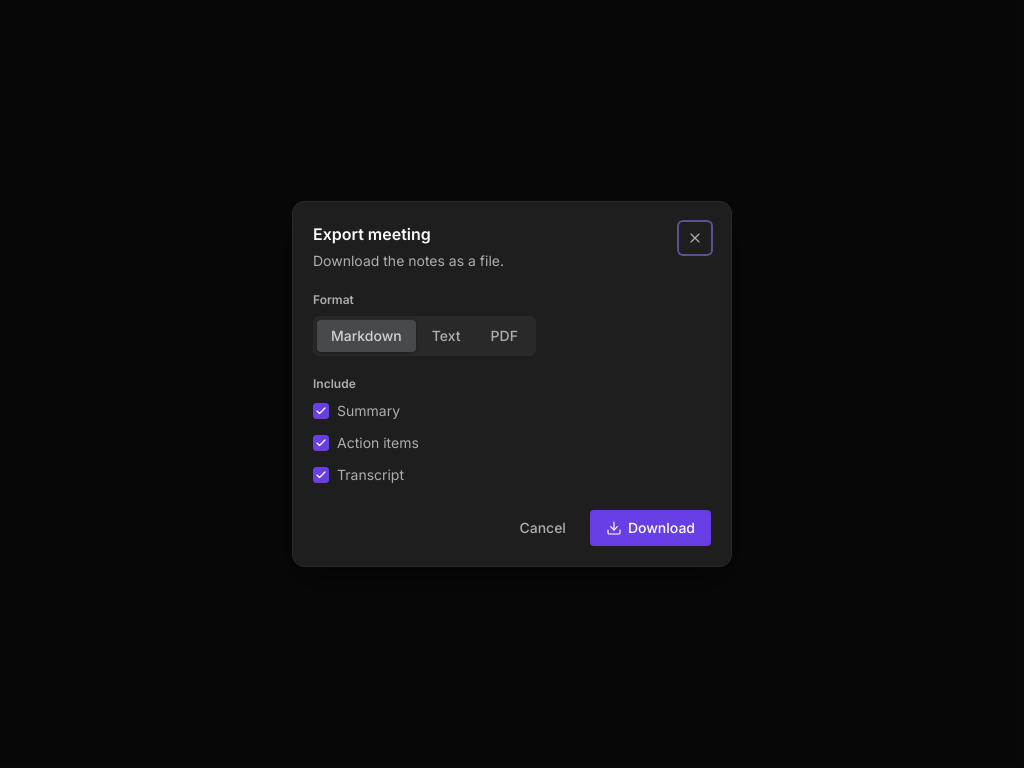
Test: ExportModal › disables Download and explains why when no section is picked
The width and height of the screenshot is (1024, 768).
Click the checkbox named "Summary" next to "Summary".
click(321, 411)  # box [313,403,329,419]
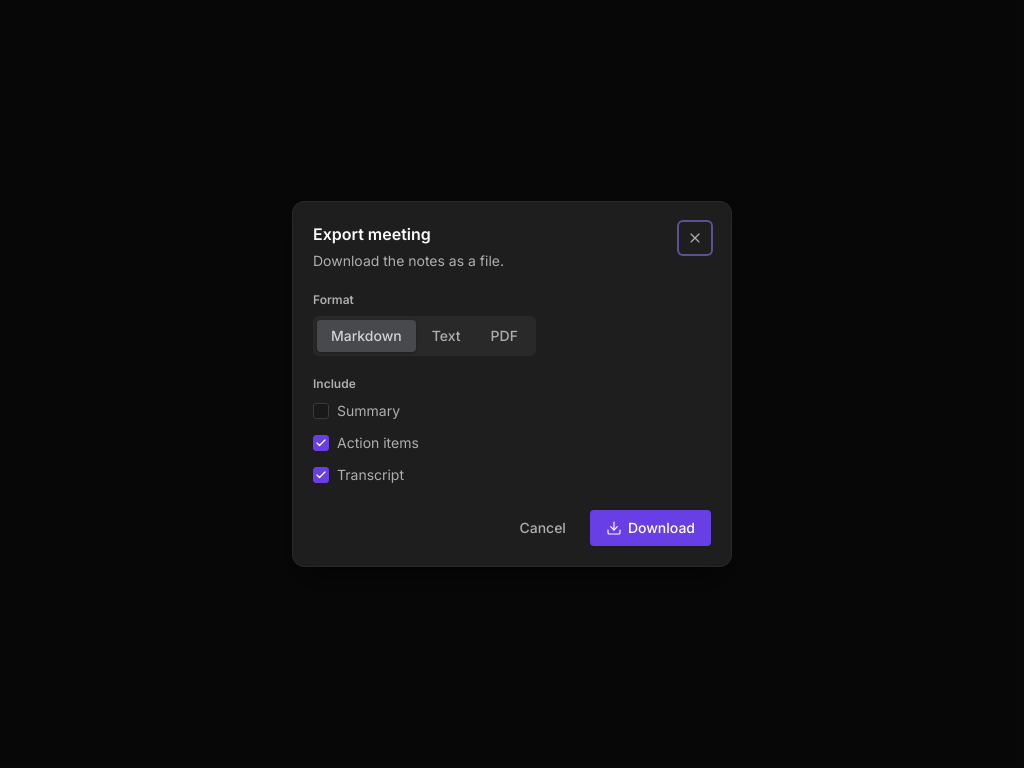
Click the checkbox named "Action items" next to "Action items".
click(321, 443)  # box [313,435,329,451]
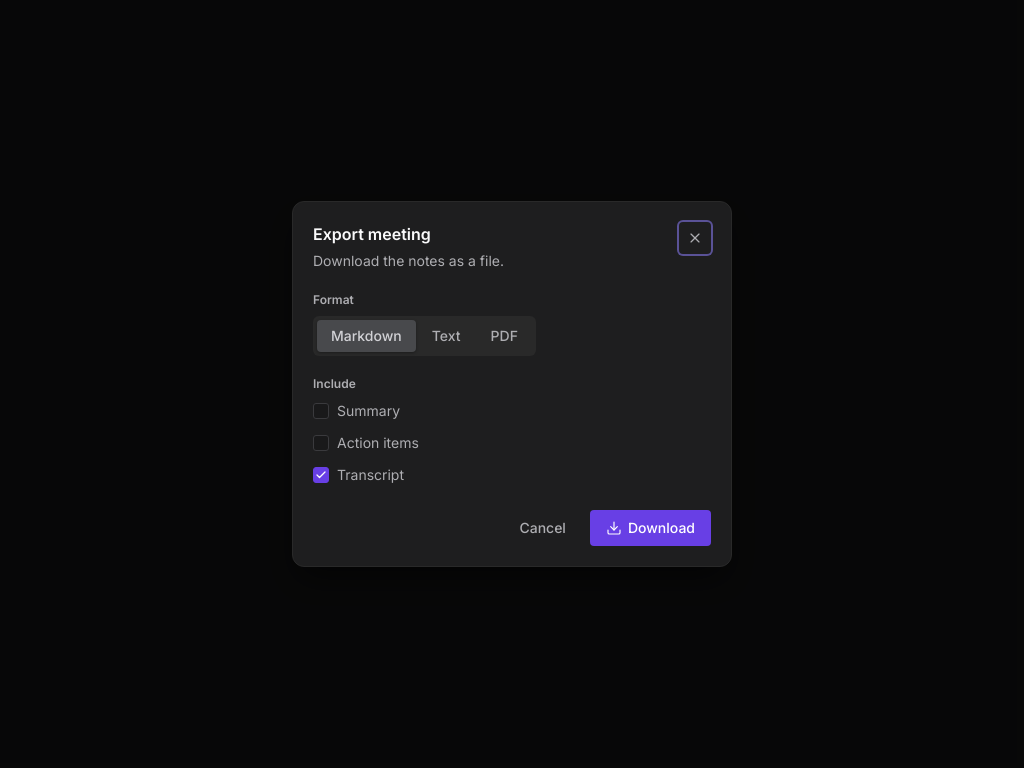
Click the checkbox named "Transcript" next to "Transcript".
click(321, 475)  # box [313,467,329,483]
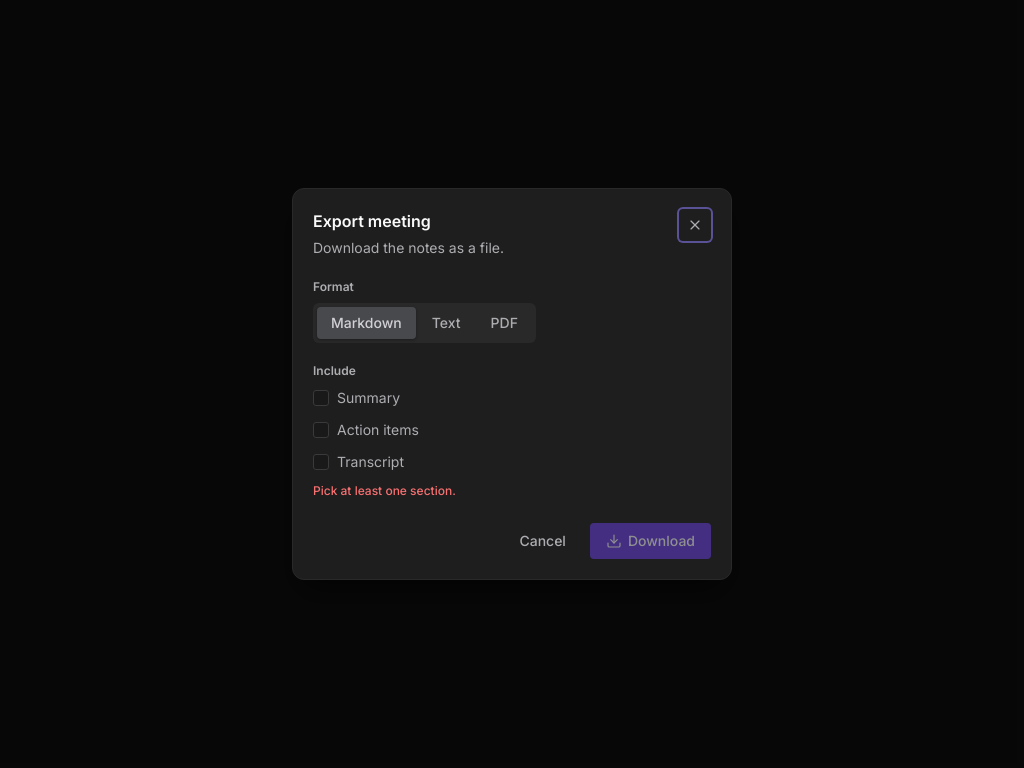
Expected: the button "Download" is disabled, [590,523,711,559]
Expected: the message shows "at least one section", [313,483,456,498]
